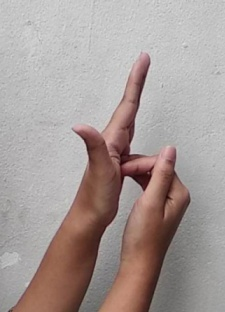ga: (64, 45, 192, 270)
